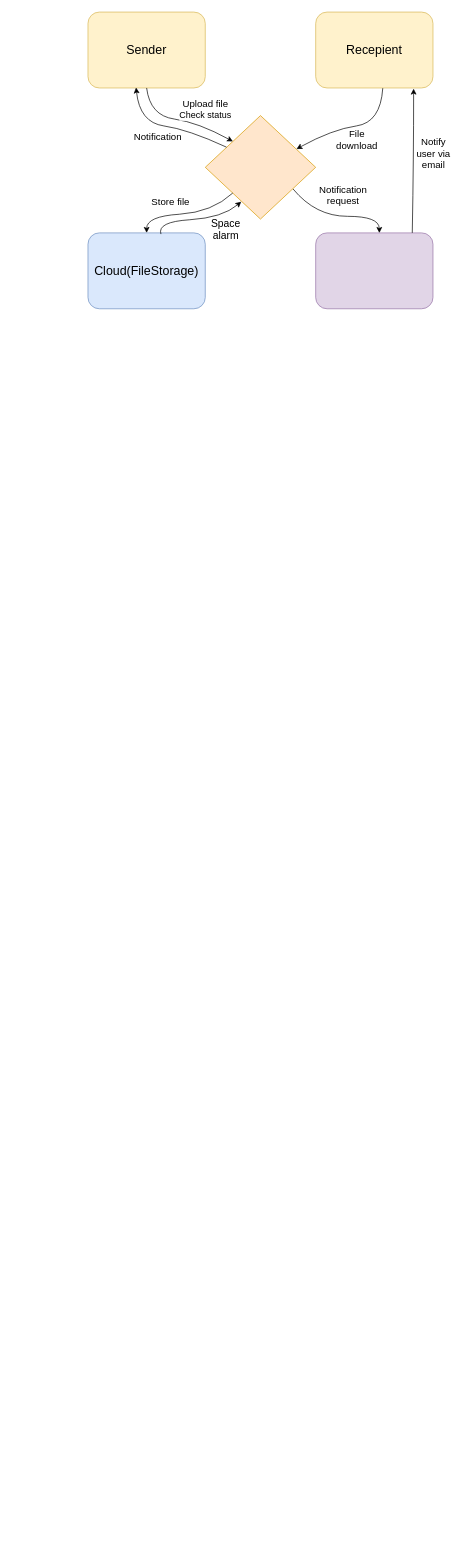
Some shapes in this 466 by 1549 pixel diagram are drawn without their labels. The box of each missing label's shape, as (x1, y1, x2, y2) in pixels:
Email Notification: (315, 232, 433, 309)
File Transfer Service: (205, 115, 316, 219)
